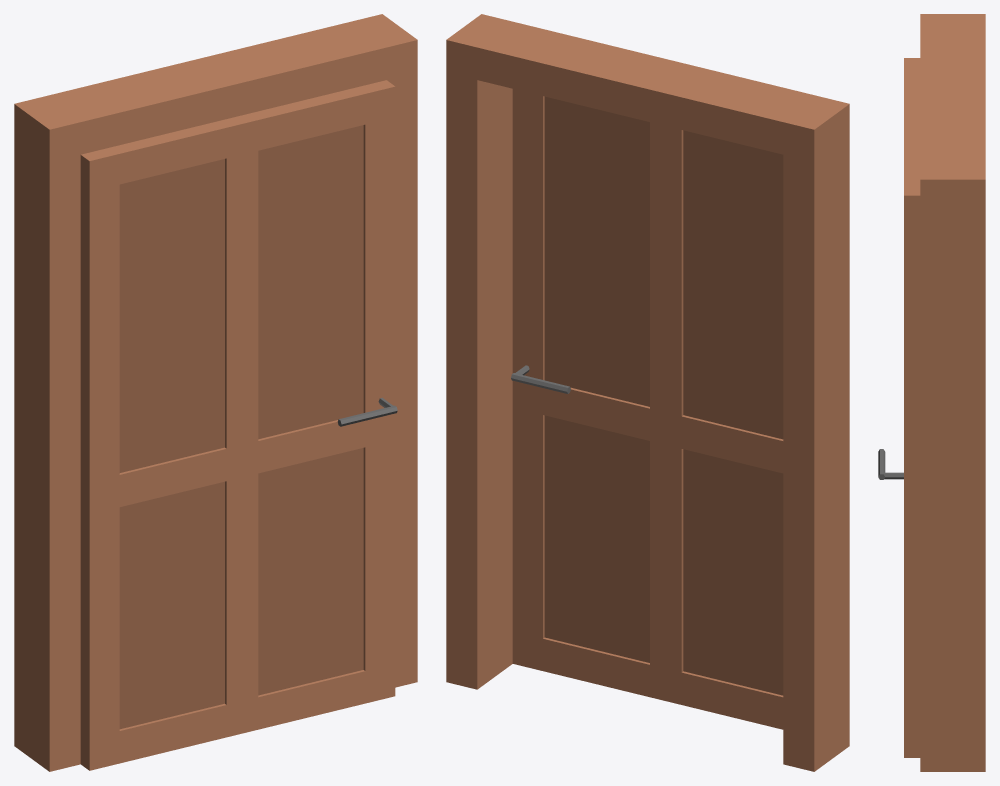
File: door.fbx
3 renders of one model, left to right at view 1: azimuth 30°, elevation 25°; view 2: azimuth 150°, elevation 25°; view 3: azimuth 270°, elevation 25°, orthographic. The views are drawn at different scales.
Parts seen in each view (by area): view 1: Door, Doorframe; view 2: Door, Doorframe; view 3: Doorframe, Door, Cylinder.
Boxes of the visible parts, box(x1,y1,x2,y2) form: Door: box(80, 80, 395, 770); Doorframe: box(14, 14, 417, 771); Door: box(512, 89, 783, 729); Doorframe: box(446, 14, 849, 771); Doorframe: box(920, 14, 985, 771); Door: box(904, 58, 920, 757); Cylinder: box(878, 449, 903, 479).
Bounding box in the file's own units: 2.4 × 4 × 0.659.
